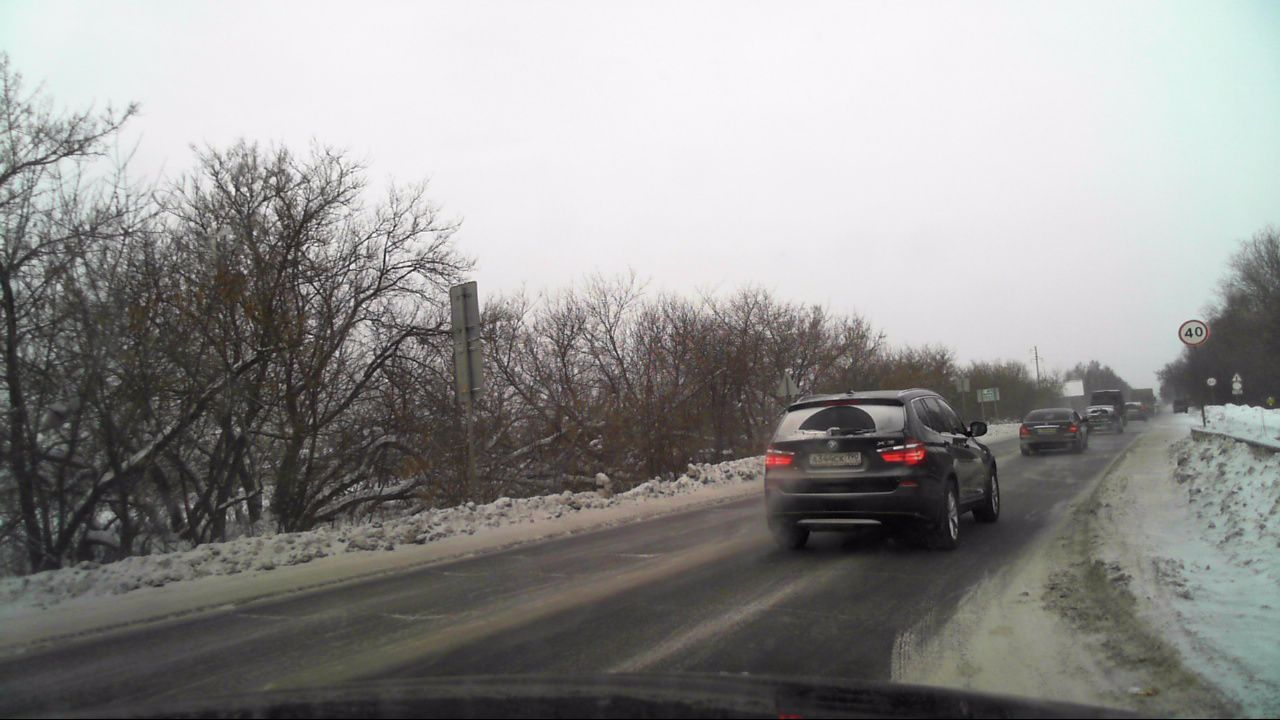speed_warning_40: (1179, 317, 1208, 345)
